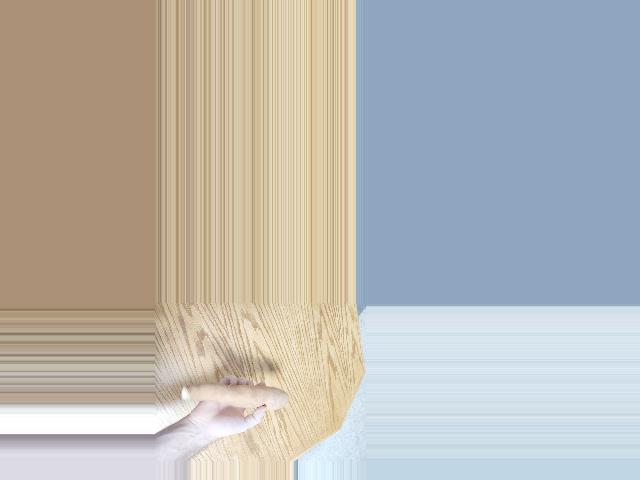sweet_potato: (189, 377, 288, 404)
